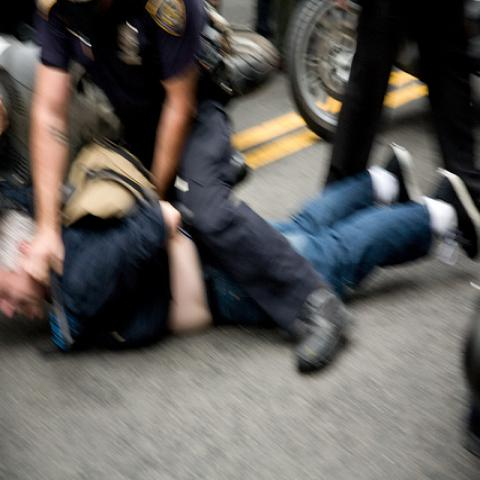motorcycle: (283, 1, 359, 133)
